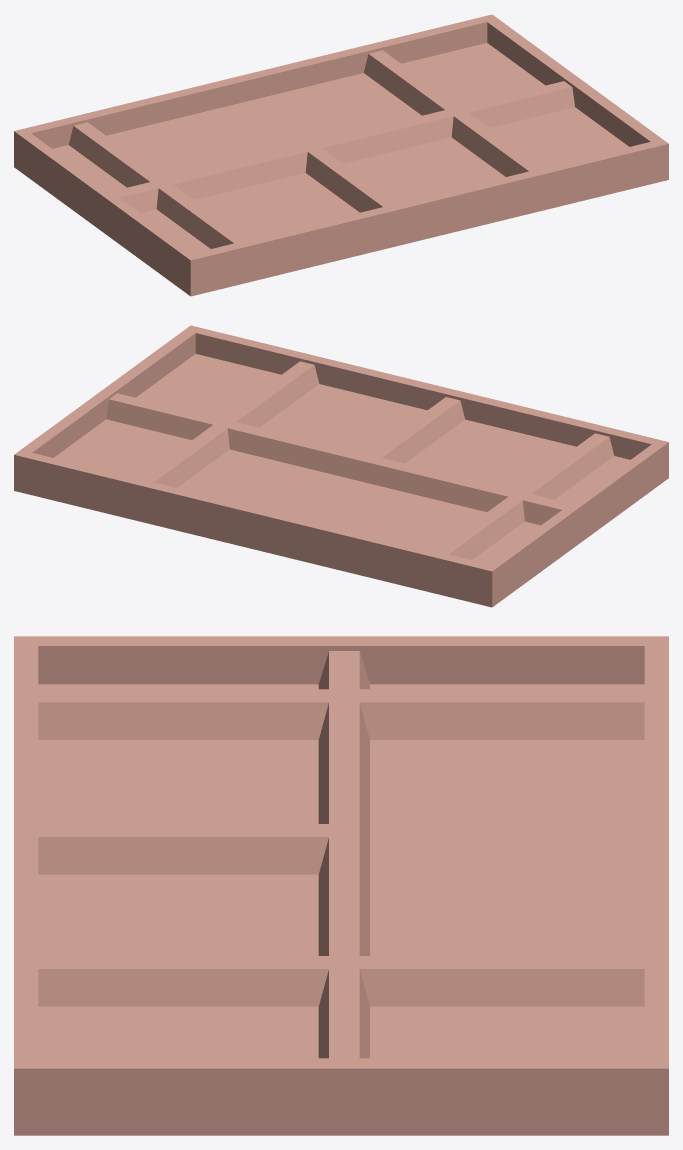
Rendered from food.fbx.
The picture shows the model from 3 angles, top to bottom: view 1: azimuth 30°, elevation 25°; view 2: azimuth 150°, elevation 25°; view 3: azimuth 270°, elevation 25°; orthographic projection. The views are drawn at different scales.
Visible parts, largest first — view 1: Null_1; view 2: Null_1; view 3: Null_1.
Boxes of the visible parts, box(x1,y1,x2,y2) form: Null_1: box(14, 14, 668, 296); Null_1: box(14, 325, 668, 607); Null_1: box(14, 636, 668, 1135).
Bounding box in the file's own units: 63.44 × 4.58 × 40.62.
